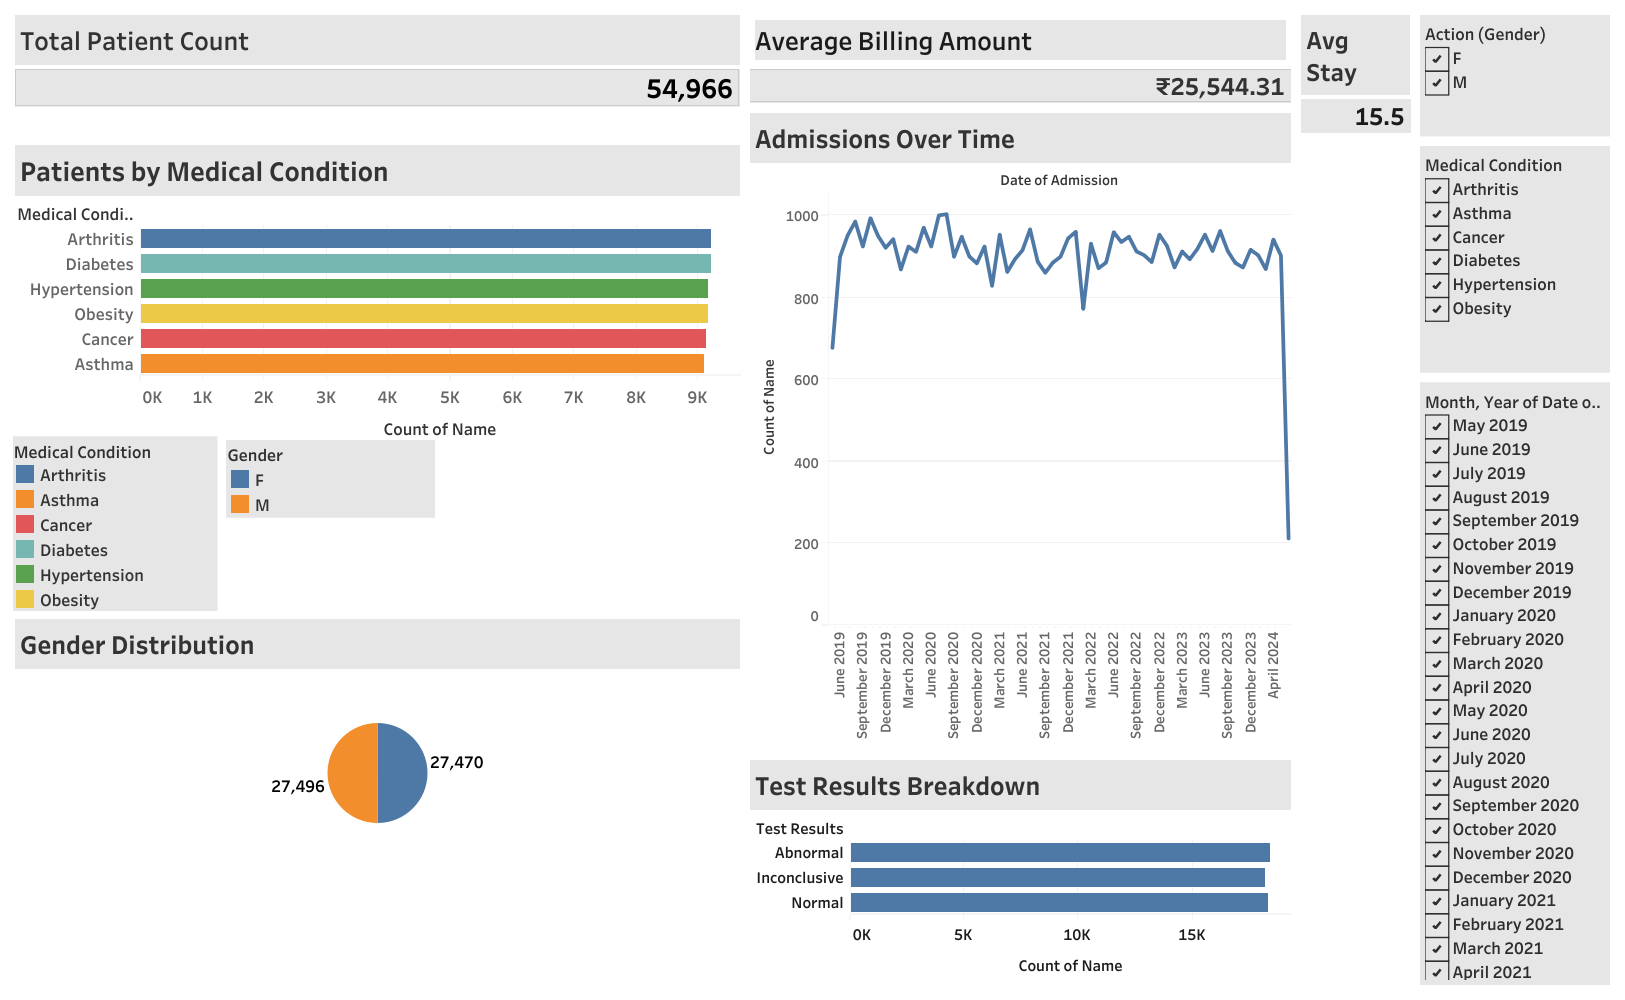

The dashboard page shown, as its layout file describes it:
{"tool":"tableau","page":{"name":"Healthcare Patient Analytics Dashboard","canvas":[1300,800],"ordinal":0},"visuals":[{"type":"worksheet","title":"Total Patient Count","mark":"Text","box":[8,8,588.1,104]},{"type":"worksheet","title":"Average Billing Amount","mark":"Automatic","box":[596,8,441,78]},{"type":"worksheet","title":"Length to Stay","mark":"Text","box":[1037,8,95,784]},{"type":"filter","title":"Gender Distribution","param":"[federated.0jbe3gz07xxr191ckke3618jn5y3].[Action (Gender)]","box":[1132,8,160,105]},{"type":"worksheet","title":"Admissions Over Time","mark":"Line","rows":["Name"],"cols":["Date of Admission"],"box":[596,86,441,518]},{"type":"worksheet","title":"Patients by Medical Condition","mark":"Automatic","rows":["Medical Condition"],"cols":["Name"],"box":[8,112,588.1,379.5]},{"type":"filter","title":"Gender Distribution","param":"[federated.0jbe3gz07xxr191ckke3618jn5y3].[none:Medical Condition:nk]","box":[1132,113,160,189]},{"type":"filter","title":"Gender Distribution","param":"[federated.0jbe3gz07xxr191ckke3618jn5y3].[my:Date of Admission:ok]","box":[1132,302,160,490]},{"type":"legend","title":"Patients by Medical Condition","param":"[federated.0jbe3gz07xxr191ckke3618jn5y3].[none:Medical Condition:nk]","box":[9.8,349,164.7,140]},{"type":"legend","title":"Gender Distribution","param":"[federated.0jbe3gz07xxr191ckke3618jn5y3].[none:Gender:nk]","box":[180.9,352,166.8,62]},{"type":"worksheet","title":"Gender Distribution","mark":"Pie","box":[8,491.5,588.1,300.5]},{"type":"worksheet","title":"Test Results Breakdown","mark":"Bar","rows":["Test Results"],"cols":["Name"],"box":[596,604,441,188]}]}

Visuals, with their boxes in screenshot pixels (x1, y1, x2, y2), scaled from the page's 1300x800 canvas onto the 1625x1000 screenshot:
"Total Patient Count" worksheet (Text marks): l=10, t=10, r=745, b=140
"Average Billing Amount" worksheet: l=745, t=10, r=1296, b=108
"Length to Stay" worksheet (Text marks): l=1296, t=10, r=1415, b=990
"Gender Distribution" filter: l=1415, t=10, r=1615, b=141
"Admissions Over Time" worksheet (Line marks): l=745, t=108, r=1296, b=755
"Patients by Medical Condition" worksheet: l=10, t=140, r=745, b=614
"Gender Distribution" filter: l=1415, t=141, r=1615, b=378
"Gender Distribution" filter: l=1415, t=378, r=1615, b=990
"Patients by Medical Condition" legend: l=12, t=436, r=218, b=611
"Gender Distribution" legend: l=226, t=440, r=435, b=518
"Gender Distribution" worksheet (Pie marks): l=10, t=614, r=745, b=990
"Test Results Breakdown" worksheet (Bar marks): l=745, t=755, r=1296, b=990
